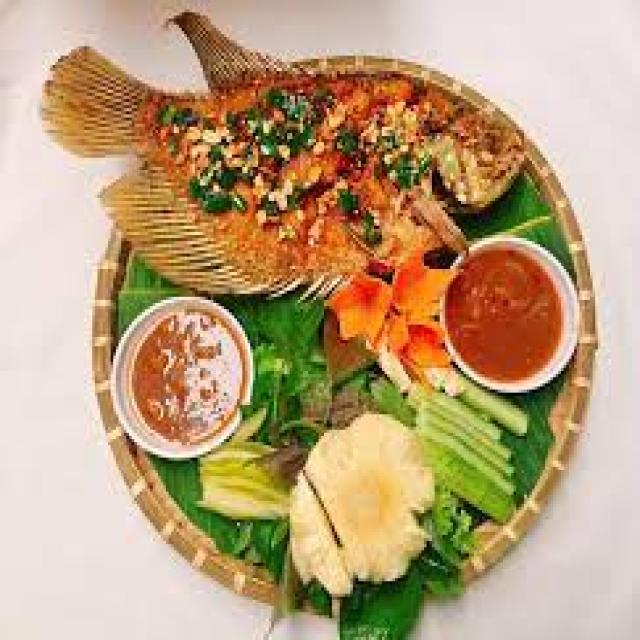Wet Waste: (49, 17, 527, 276)
